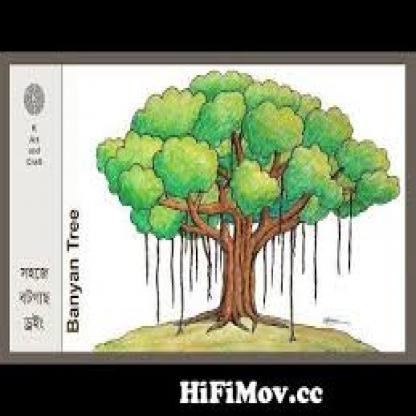branch_cut: (156, 130, 315, 255)
crown_cloud: (93, 70, 401, 238)
root_upside: (174, 305, 293, 339)
trunk_bark: (217, 265, 261, 301)
